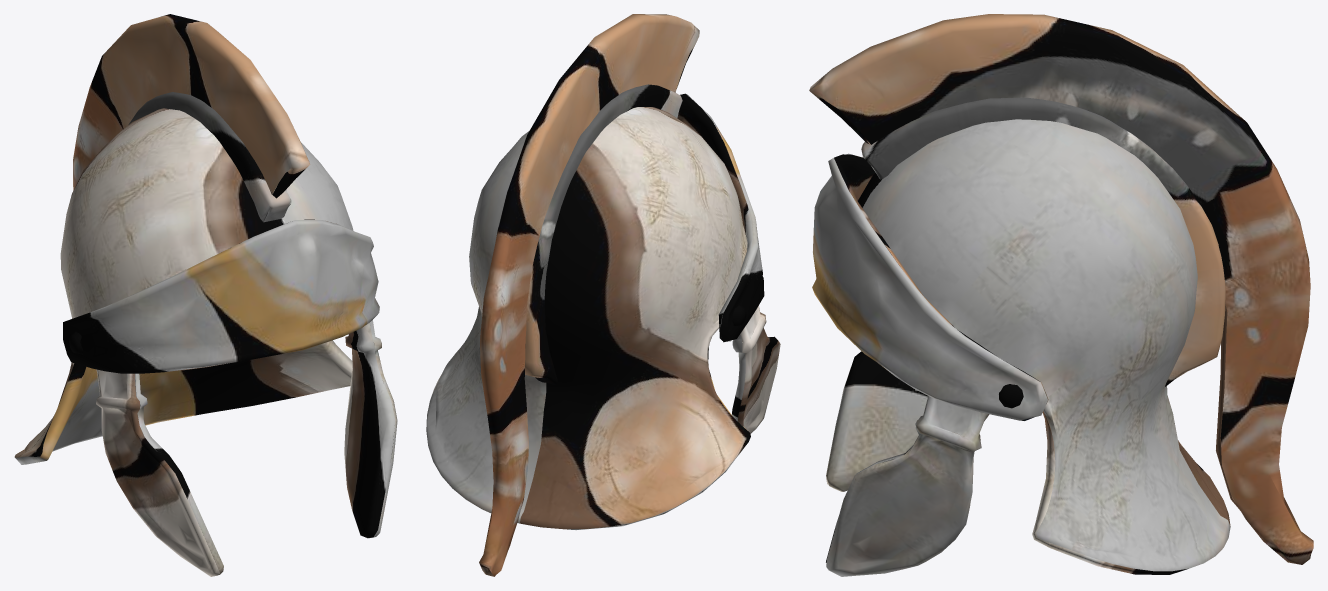
The model's file is elmo_avanzato.fbx.
The picture shows the model from 3 angles, left to right: view 1: azimuth 30°, elevation 25°; view 2: azimuth 150°, elevation 25°; view 3: azimuth 270°, elevation 25°; orthographic projection. The views are drawn at different scales.
Visible parts, largest first — view 1: Casque_low, Visiere_low, Crin_low, Barre_low; view 2: Casque_low, Crin_low, Barre_low, Visiere_low; view 3: Casque_low, Crin_low, Visiere_low, Barre_low.
Boxes of the visible parts, x1=… form: Casque_low: x1=14, y1=108, x2=397, y2=576; Visiere_low: x1=63, y1=219, x2=379, y2=373; Crin_low: x1=73, y1=14, x2=310, y2=198; Barre_low: x1=128, y1=92, x2=291, y2=222; Casque_low: x1=426, y1=107, x2=780, y2=530; Crin_low: x1=479, y1=14, x2=699, y2=576; Barre_low: x1=525, y1=84, x2=682, y2=384; Visiere_low: x1=677, y1=93, x2=764, y2=342; Casque_low: x1=826, y1=119, x2=1230, y2=576; Crin_low: x1=809, y1=14, x2=1313, y2=564; Visiere_low: x1=812, y1=153, x2=1048, y2=420; Barre_low: x1=861, y1=97, x2=1225, y2=386.
Bounding box in the file's own units: 2778 × 3999 × 3345.
1 material, 1 textured.
